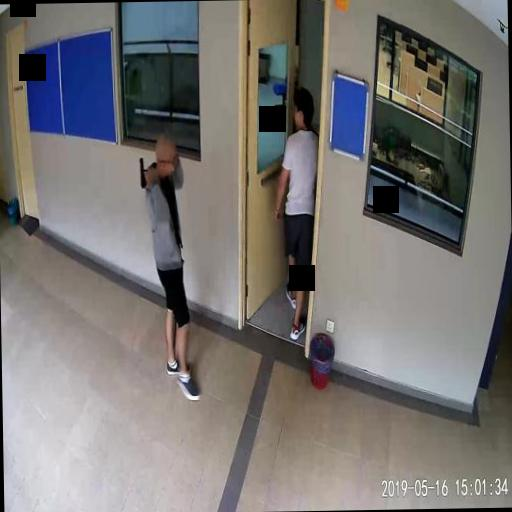Handgun: (138, 153, 156, 188)
